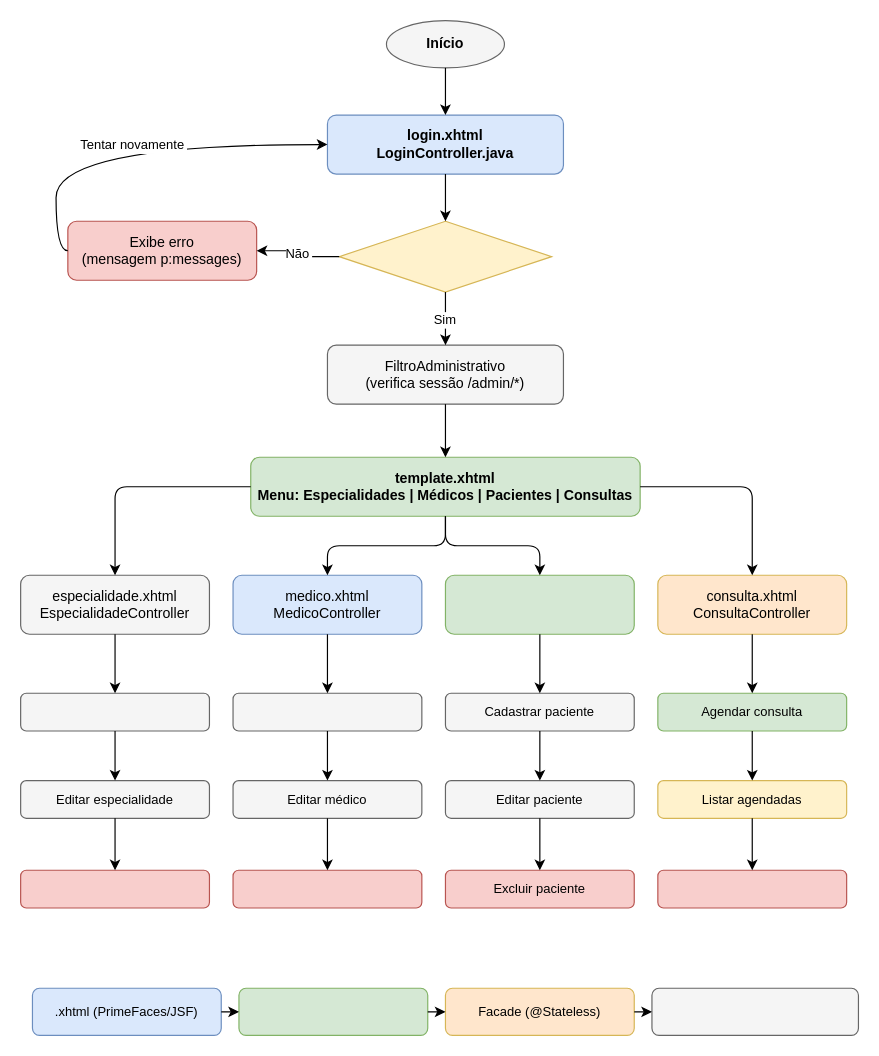
This 879x1056 diagram has some shape labels left out. The shapes that lost their labels are listed below. From the top down, each one's centre as x and y in pixels, then its label:
(x=445, y=256): Credenciais válidas?
(x=539, y=604): paciente.xhtml PacienteController
(x=114, y=711): Cadastrar especialidade
(x=327, y=711): Cadastrar médico
(x=114, y=888): Excluir especialidade
(x=327, y=888): Excluir médico
(x=752, y=888): Cancelar consulta
(x=333, y=1011): Controller (@Named)
(x=754, y=1011): Entity (JPA/PostgreSQL)
